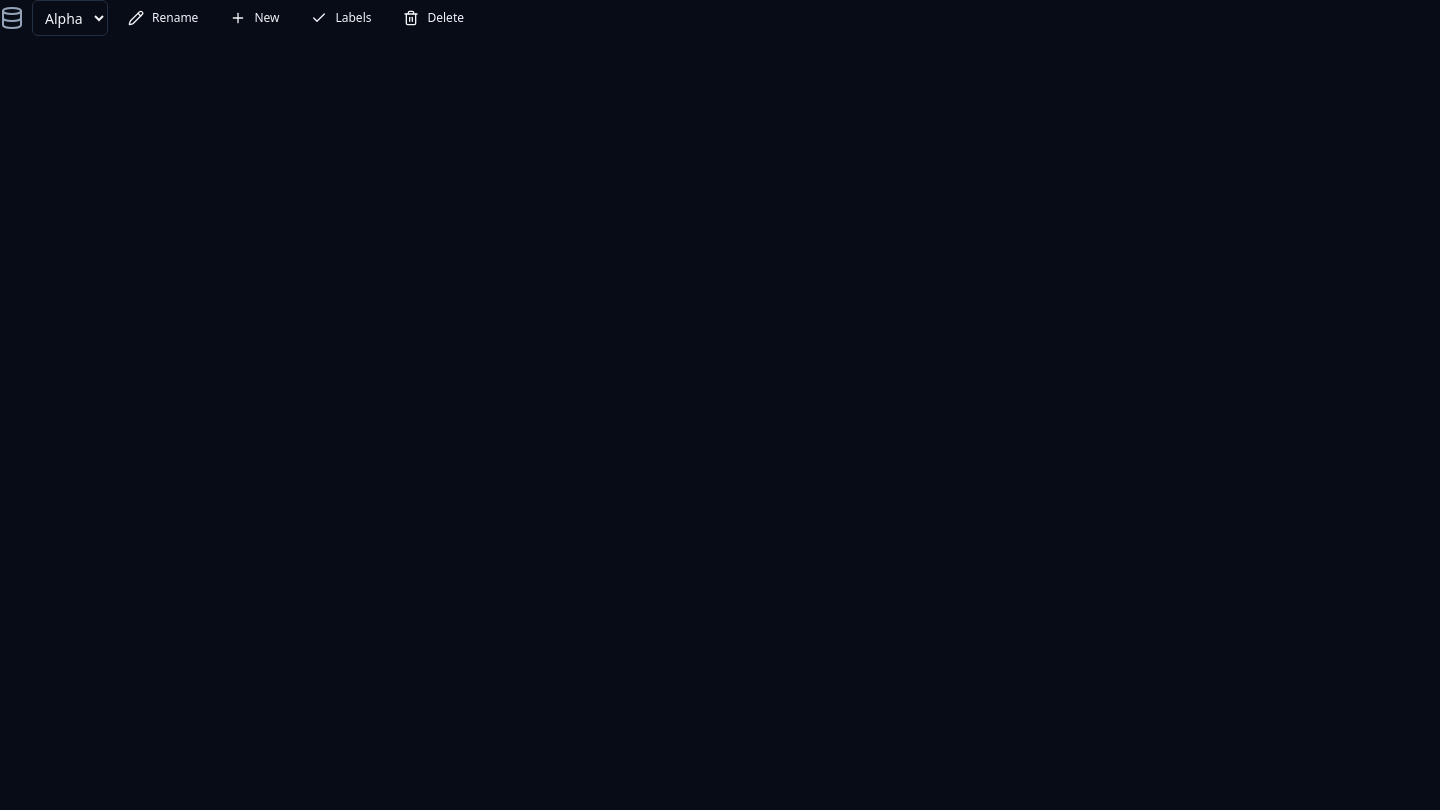
DatasetSwitcher › rejects creating a dataset with a duplicate name (Req 19.7)
This screenshot has width=1440, height=810.
Click the button with aria-label "create new dataset": (255, 18) [218,2,292,34]
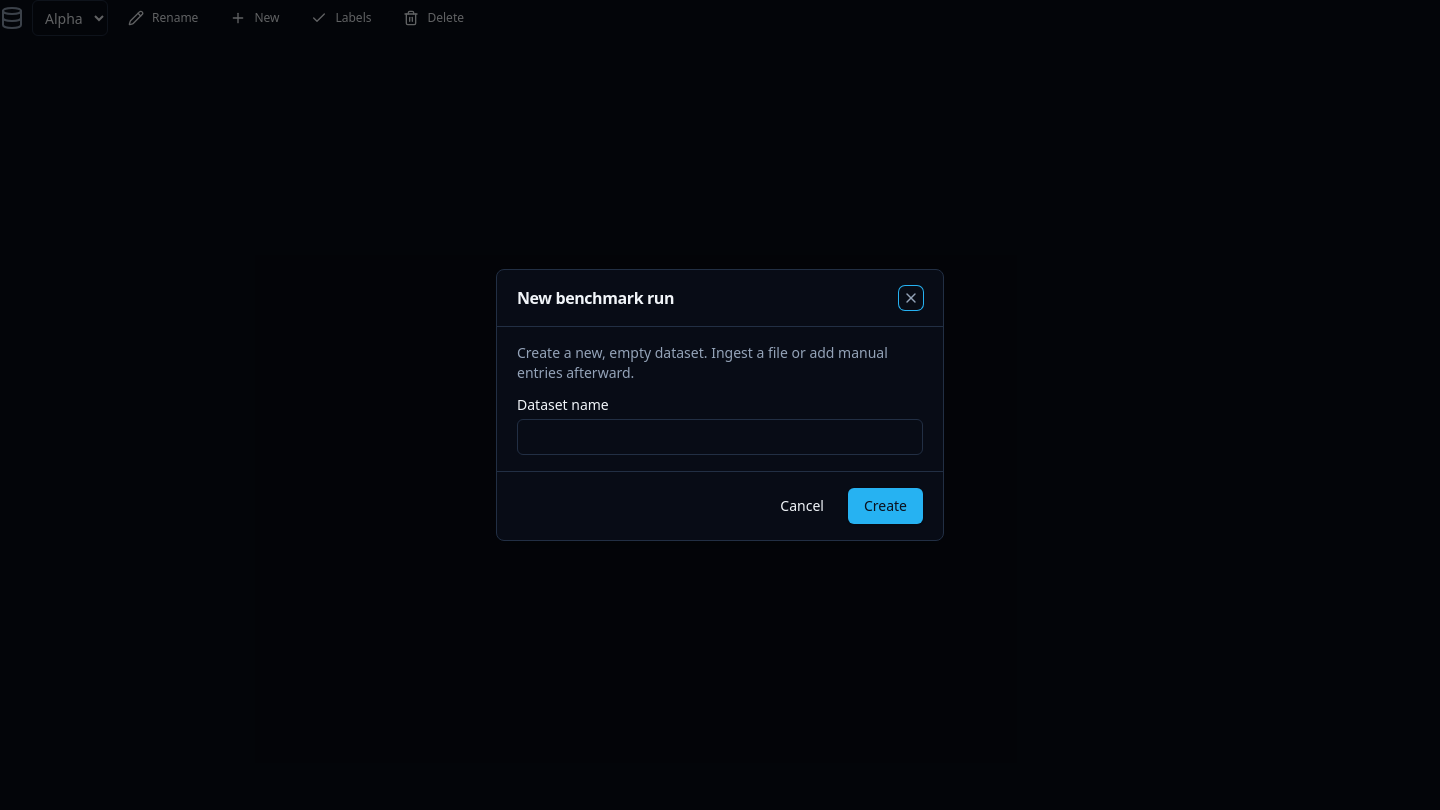
In the field labelled "Dataset name": (720, 437) [517,419,923,455], type "Alpha"
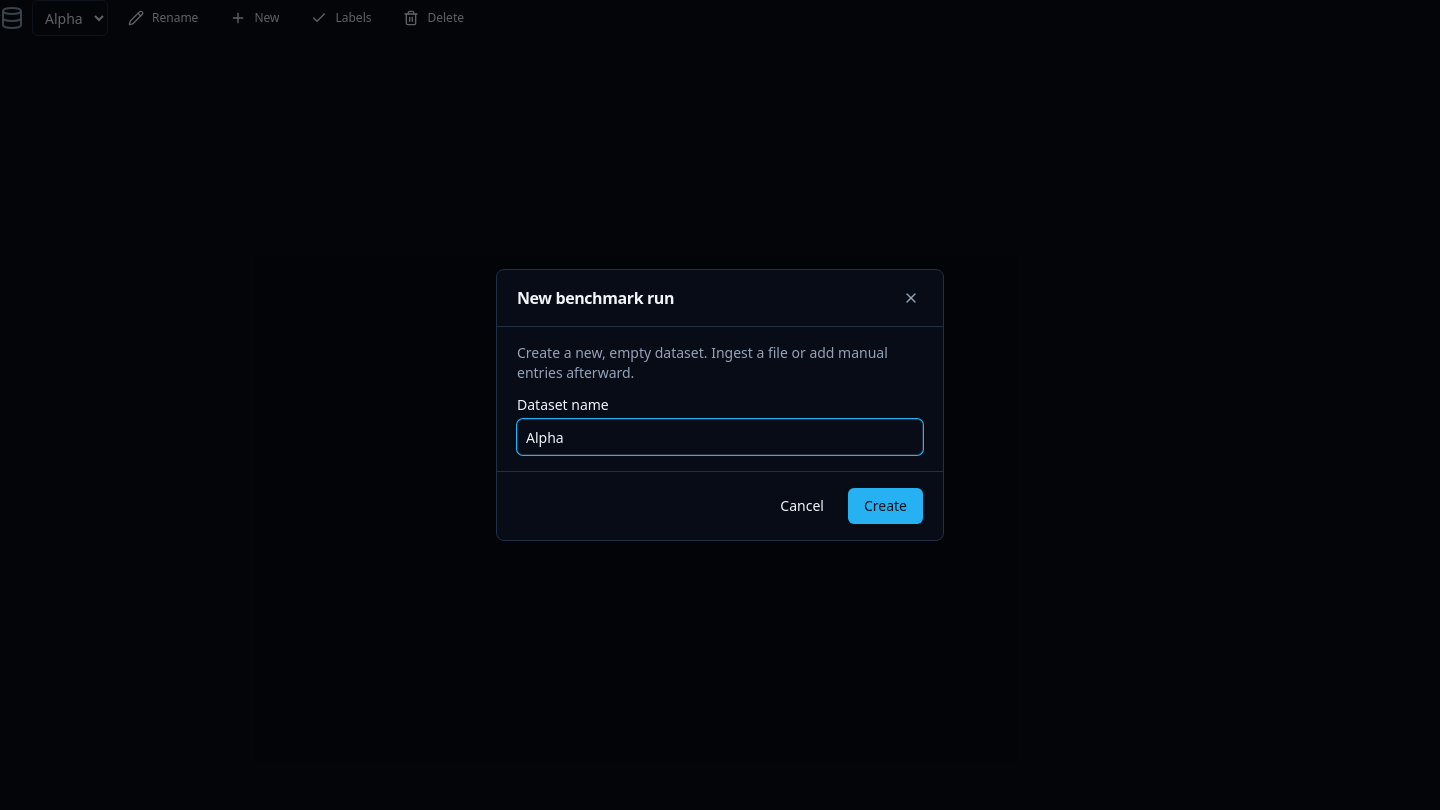
Click the button "Create": (885, 506) [848,488,923,524]
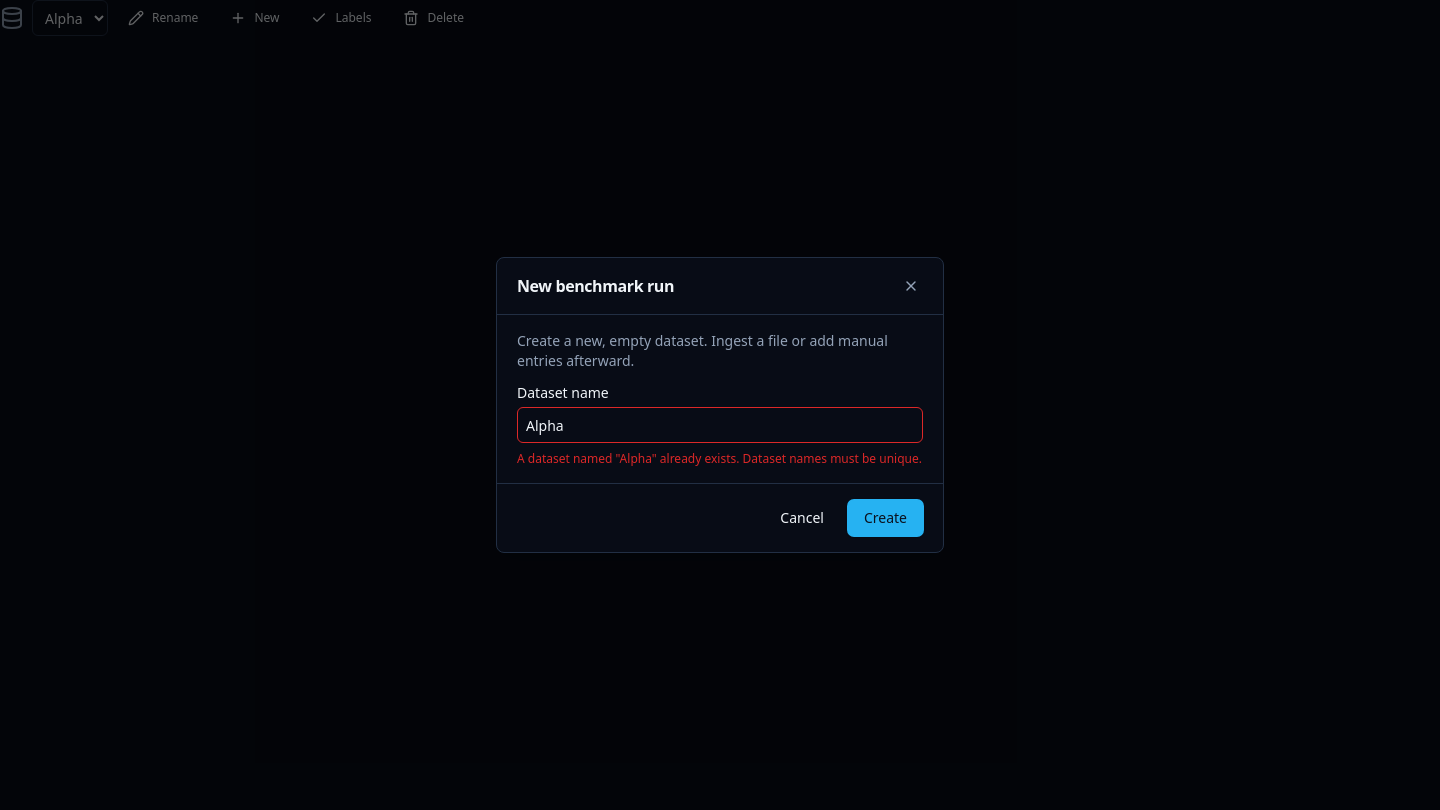
Expected: the message shows "must be unique", [517,450,922,467]
